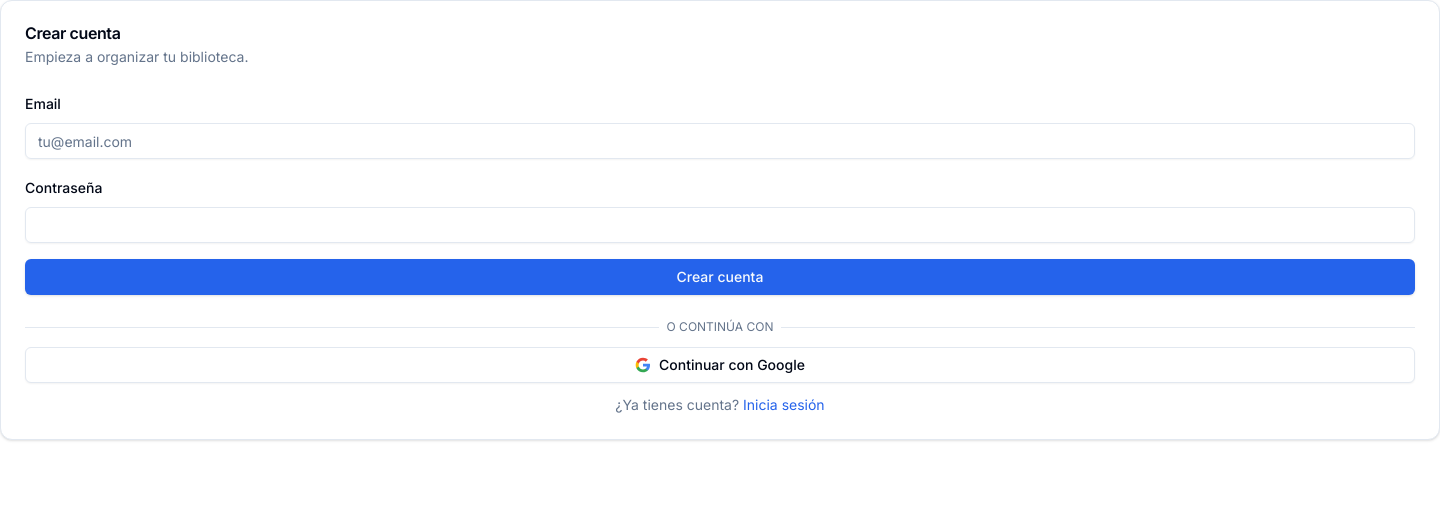
Test: RegisterForm › validates the form and does not submit when invalid
Click the button "Crear cuenta".
click(720, 277)  # box [25,259,1415,295]
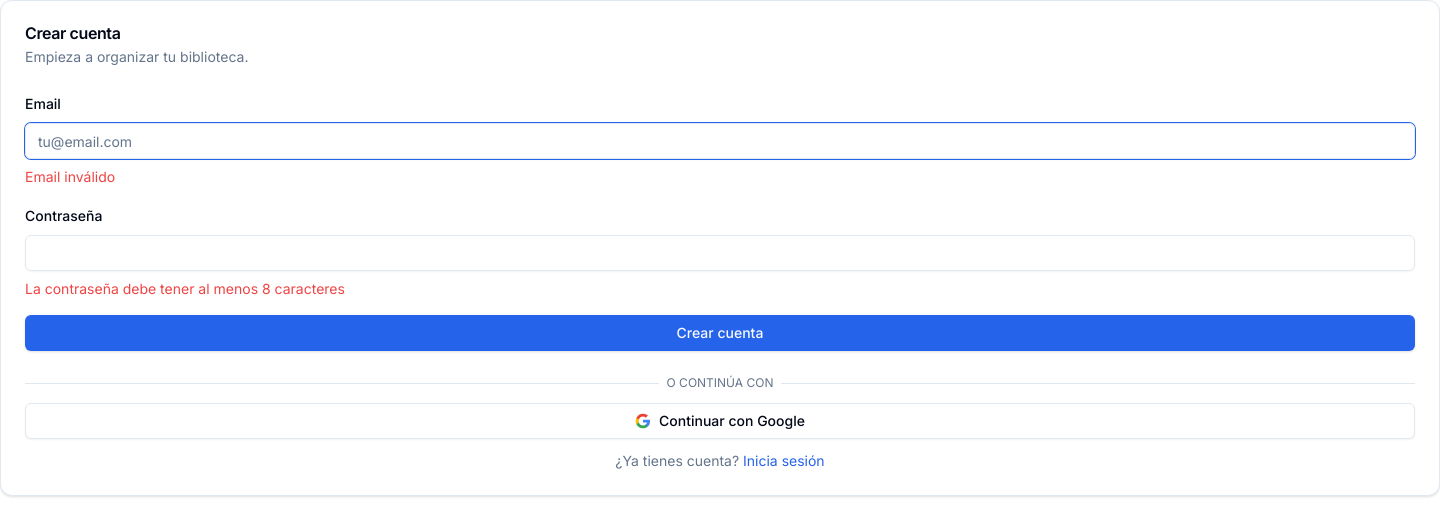
Expected: the text "Email inválido" is shown, [25,168,115,185]
